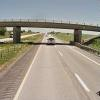Bridge: (2, 12, 95, 43)
